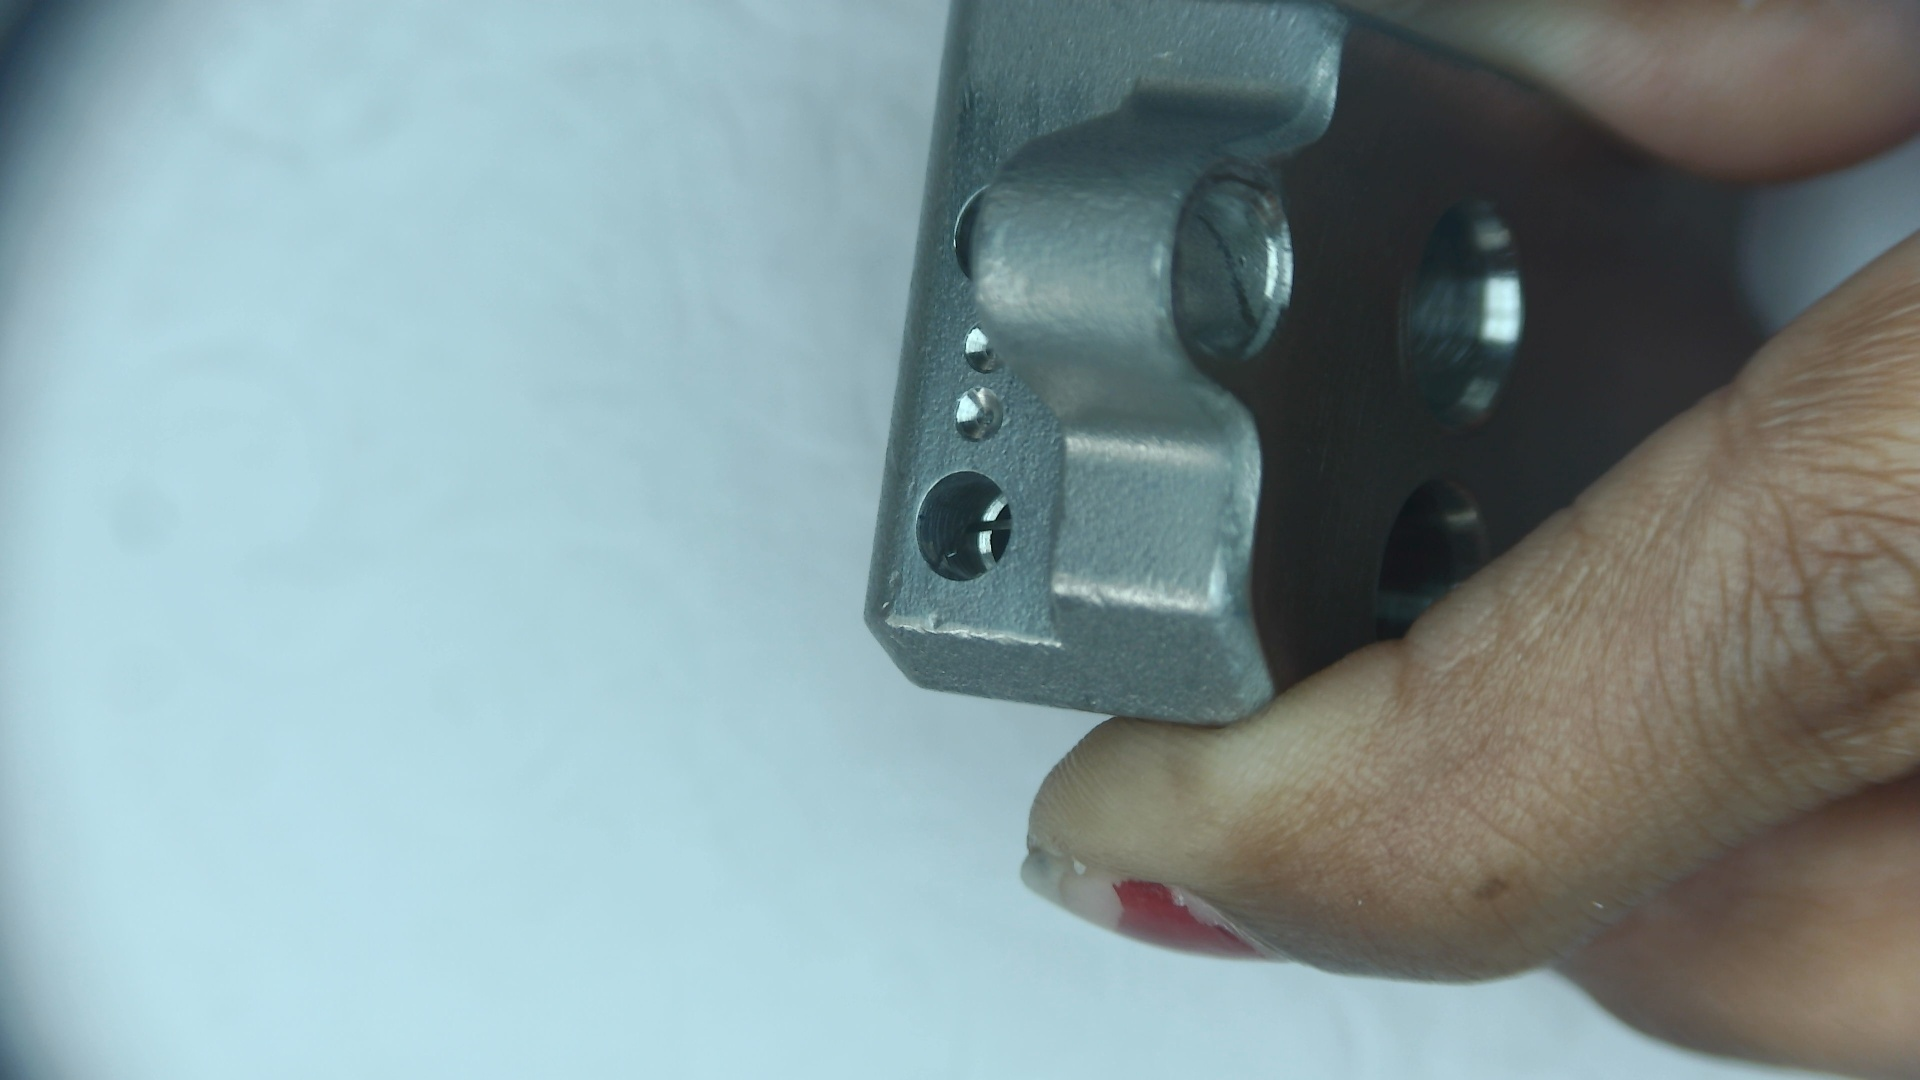burr: (1838, 1026, 1920, 1080)
